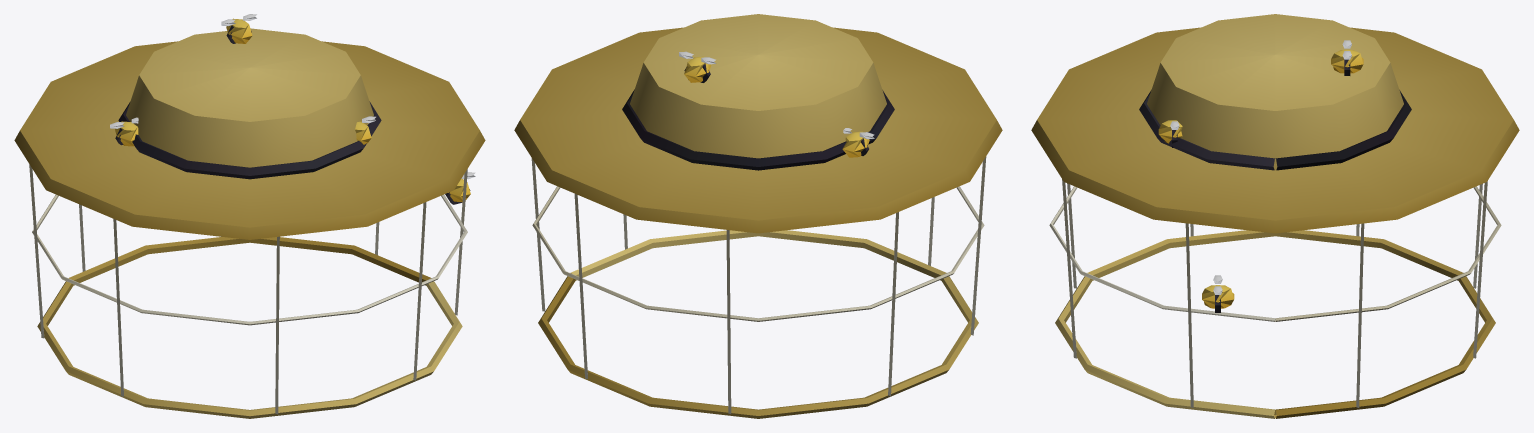
The model's file is lg_swarm_keeper_net.glb.
The picture shows the model from 3 angles, left to right: view 1: azimuth 30°, elevation 25°; view 2: azimuth 150°, elevation 25°; view 3: azimuth 270°, elevation 25°; orthographic projection. The views are drawn at different scales.
Parts seen in each view (by area): view 1: lg_swarm_keeper_net; view 2: lg_swarm_keeper_net; view 3: lg_swarm_keeper_net.
Boxes of the visible parts, bbox=[...] form: lg_swarm_keeper_net: bbox=[14, 14, 485, 418]; lg_swarm_keeper_net: bbox=[514, 14, 1002, 418]; lg_swarm_keeper_net: bbox=[1031, 14, 1519, 418].
Size of the model in its own units: 3.4 by 2.24 by 3.4.
